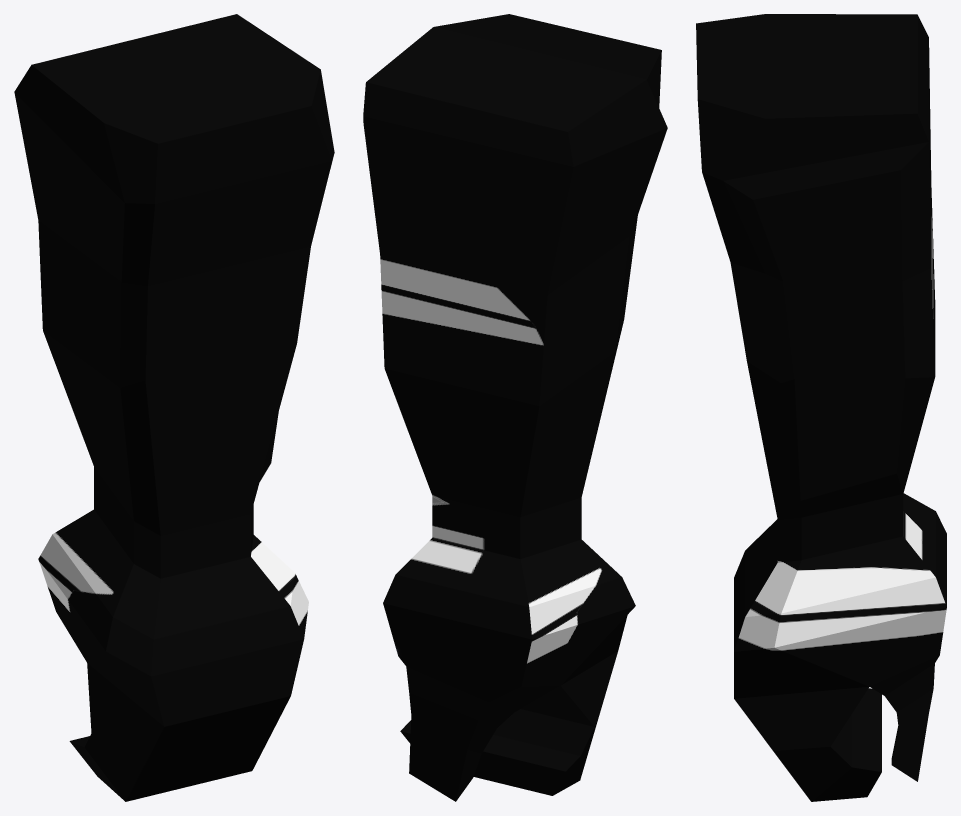
File: rightarm.obj
3 renders of one model, left to right at view 1: azimuth 30°, elevation 25°; view 2: azimuth 150°, elevation 25°; view 3: azimuth 270°, elevation 25°, orthographic.
Visible parts, largest first — view 1: pCube4 pCube5; view 2: pCube4 pCube5; view 3: pCube4 pCube5.
Part boxes in pixels (x1,y1,x2,y2): pCube4 pCube5: [14, 14, 334, 801]; pCube4 pCube5: [363, 14, 667, 801]; pCube4 pCube5: [696, 14, 946, 801].
Bounding box in the file's own units: 0.3885 × 1.16 × 0.3718.
1 material, 1 textured.
